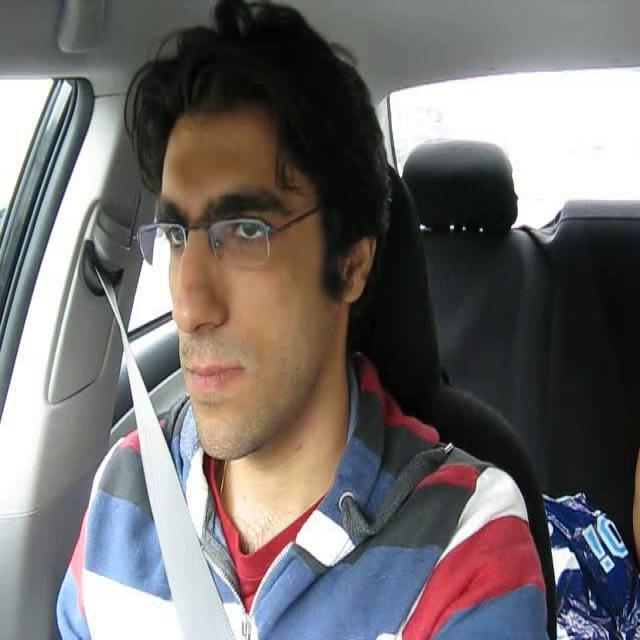open: (214, 187, 293, 259), (154, 198, 193, 260)
